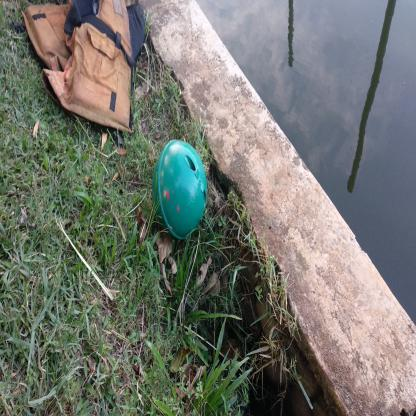green_buoy: (149, 136, 210, 243)
